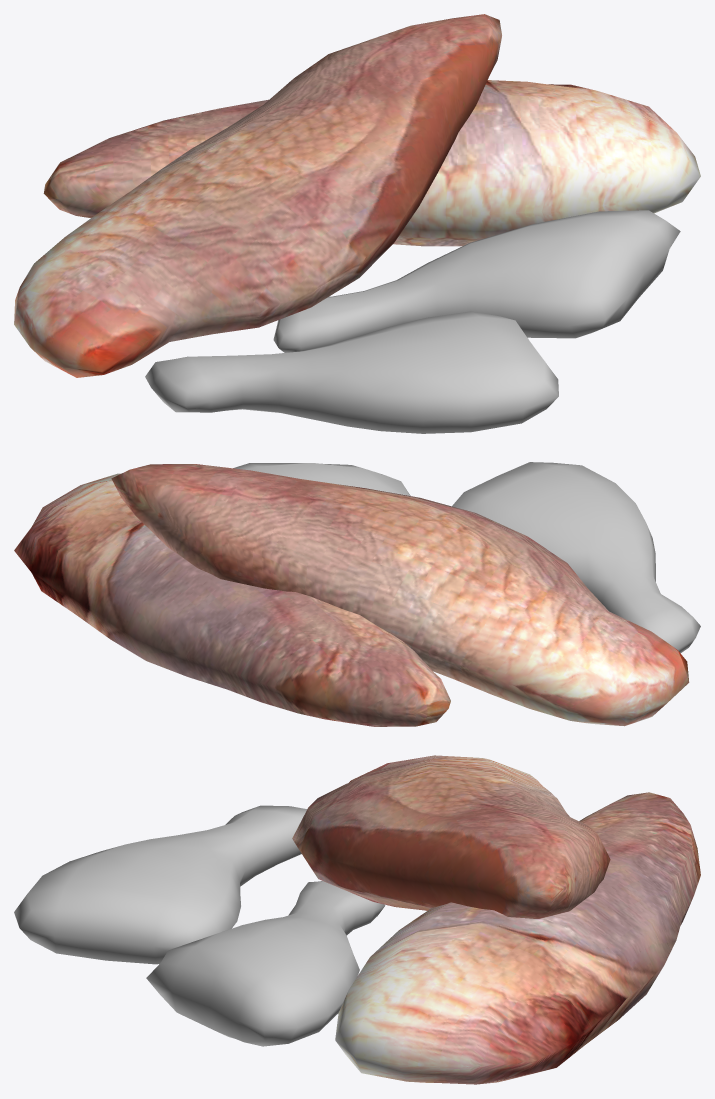
Rendered from Chicken Meat.FBX.
The picture shows the model from 3 angles, top to bottom: view 1: azimuth 30°, elevation 25°; view 2: azimuth 150°, elevation 25°; view 3: azimuth 270°, elevation 25°; orthographic projection. The views are drawn at different scales.
Parts seen in each view (by area): view 1: ChickenBreast01, ChickenBreast02, Drumstick01, Drumstick02; view 2: ChickenBreast01, ChickenBreast02, Drumstick01, Drumstick02; view 3: ChickenBreast02, ChickenBreast01, Drumstick01, Drumstick02.
Boxes of the visible parts, x1,y1,x2,y2 form: ChickenBreast01: [14, 14, 501, 377]; ChickenBreast02: [43, 80, 700, 246]; Drumstick01: [145, 311, 558, 433]; Drumstick02: [273, 210, 680, 352]; ChickenBreast01: [111, 464, 689, 726]; ChickenBreast02: [14, 473, 450, 726]; Drumstick01: [452, 462, 700, 653]; Drumstick02: [233, 463, 410, 495]; ChickenBreast02: [335, 792, 700, 1084]; ChickenBreast01: [292, 755, 610, 918]; Drumstick01: [14, 805, 306, 964]; Drumstick02: [146, 881, 385, 1046].
Size of the model in its own units: 68.3 by 19.46 by 61.22.
